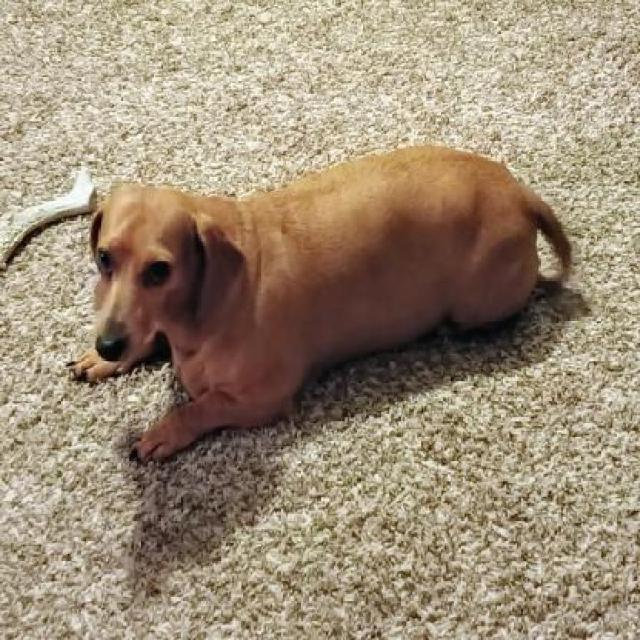Dog: (63, 137, 580, 469)
